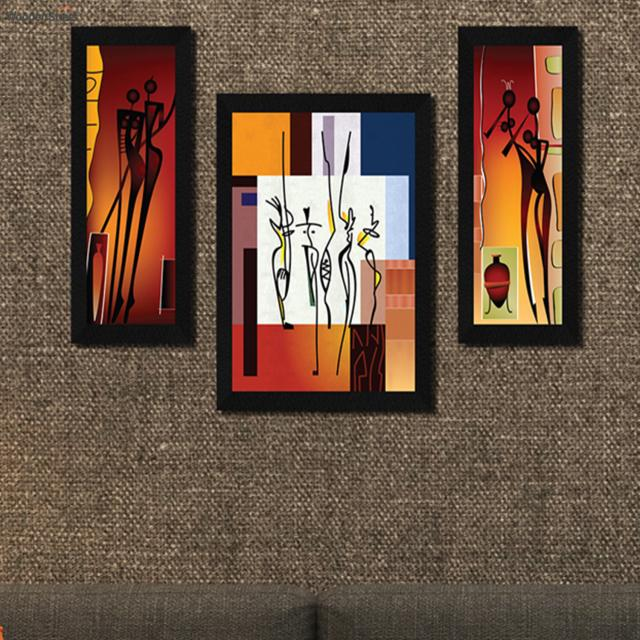painting: (219, 94, 435, 409), (72, 27, 195, 344), (459, 25, 582, 342)
